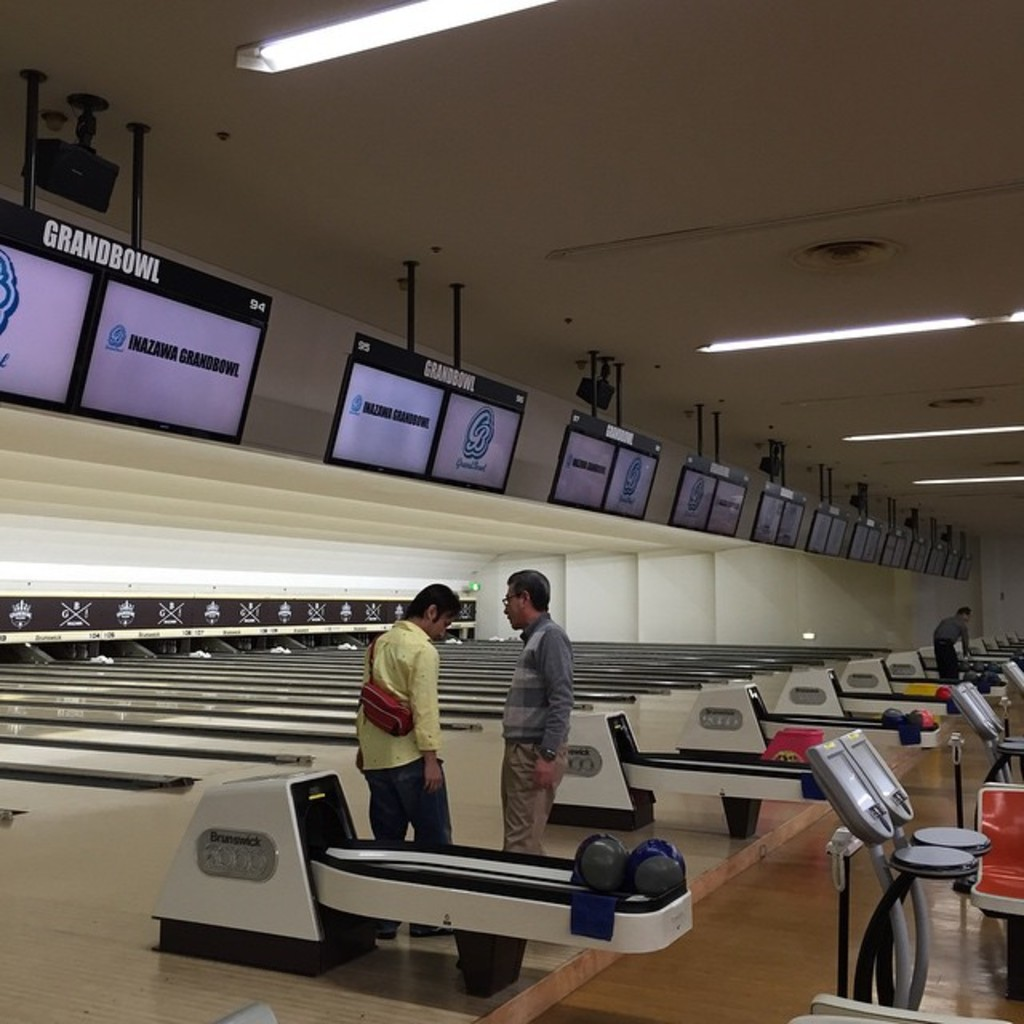Ball: (568, 835, 685, 893), (579, 835, 629, 893), (632, 858, 677, 898), (630, 840, 678, 870), (882, 706, 934, 731), (933, 685, 955, 706)
